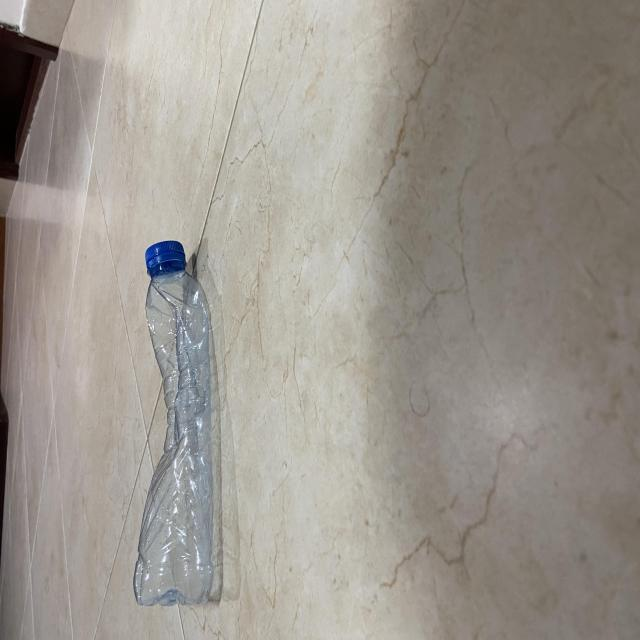bottle: (132, 233, 227, 621)
